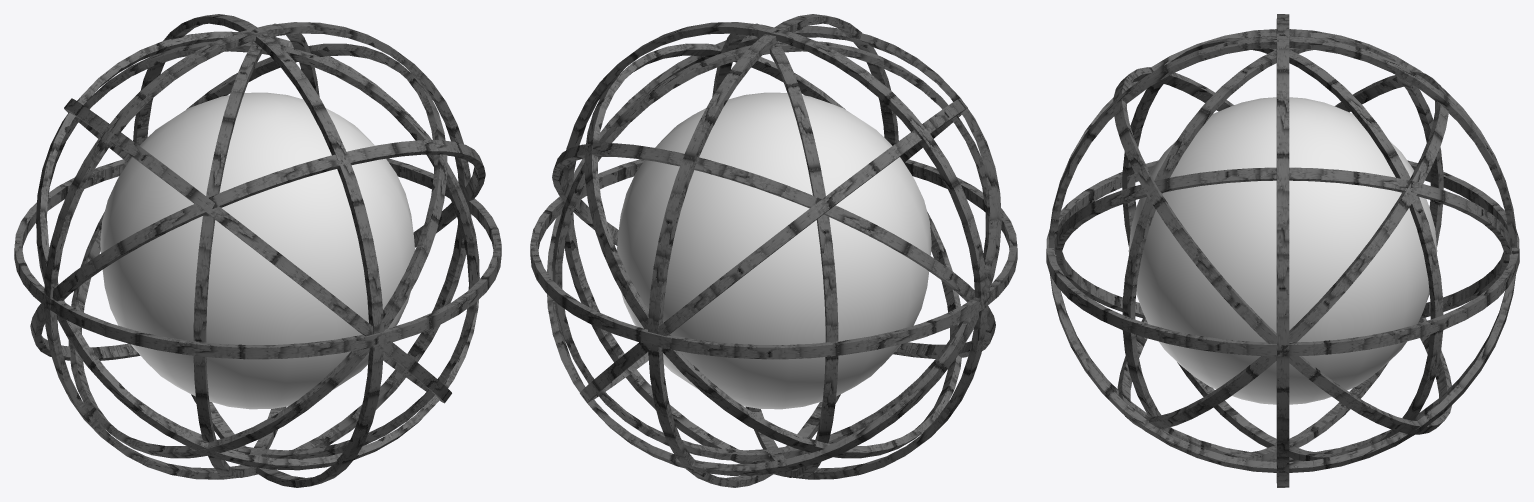
The model's file is Dysonsphere.fbx.
3 views of the same model, side by side, from view 1: azimuth 30°, elevation 25°; view 2: azimuth 150°, elevation 25°; view 3: azimuth 270°, elevation 25° (orthographic). The views are drawn at different scales.
Parts seen in each view (by area): view 1: DysonSphere, Sun_Standin; view 2: DysonSphere, Sun_Standin; view 3: DysonSphere, Sun_Standin.
Part boxes in pixels (x1,y1,x2,y2): DysonSphere: (14, 14, 501, 487); Sun_Standin: (100, 92, 414, 409); DysonSphere: (530, 14, 1017, 487); Sun_Standin: (617, 92, 931, 409); DysonSphere: (1046, 14, 1519, 487); Sun_Standin: (1128, 97, 1437, 404).
Size of the model in its own units: 26.46 by 26.41 by 26.41.
